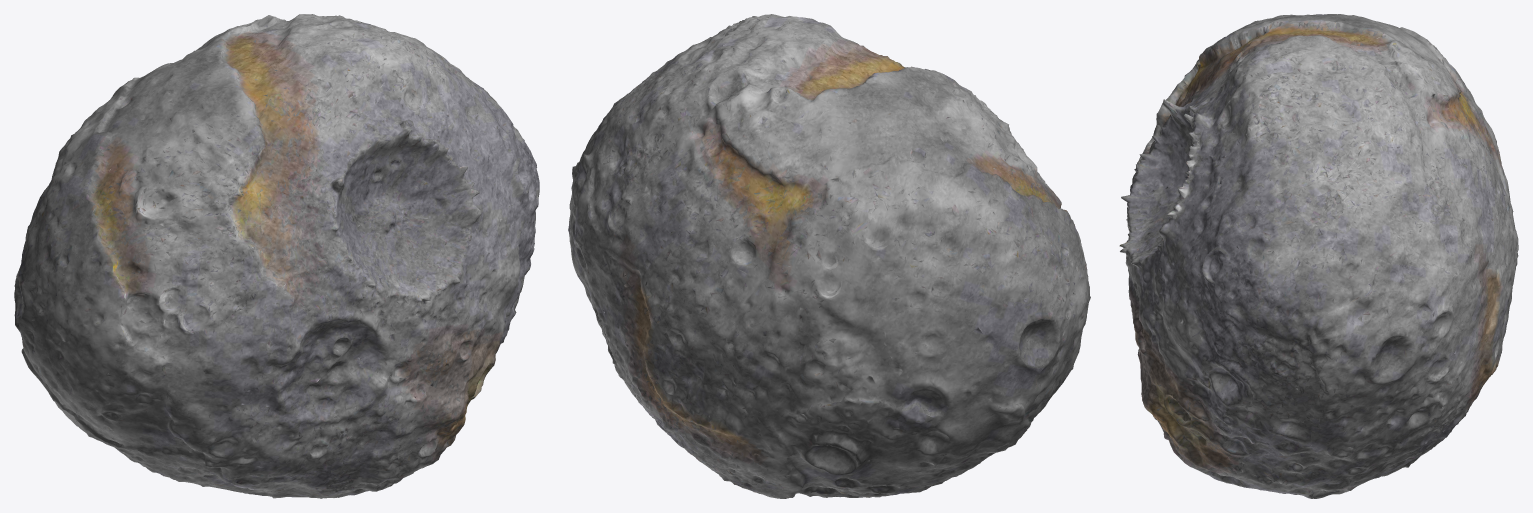
File: packed-asteroid-processed.glb
3 views of the same model, side by side, from view 1: azimuth 30°, elevation 25°; view 2: azimuth 150°, elevation 25°; view 3: azimuth 270°, elevation 25° (orthographic).
Parts seen in each view (by area): view 1: PSYCHE_20170116_DEC; view 2: PSYCHE_20170116_DEC; view 3: PSYCHE_20170116_DEC.
Part boxes in pixels (bbox=[...]): PSYCHE_20170116_DEC: bbox=[14, 14, 539, 498]; PSYCHE_20170116_DEC: bbox=[568, 14, 1090, 498]; PSYCHE_20170116_DEC: bbox=[1119, 14, 1518, 498].
Size of the model in its own units: 3 by 2.58 by 2.12.
1 material, 1 textured.
